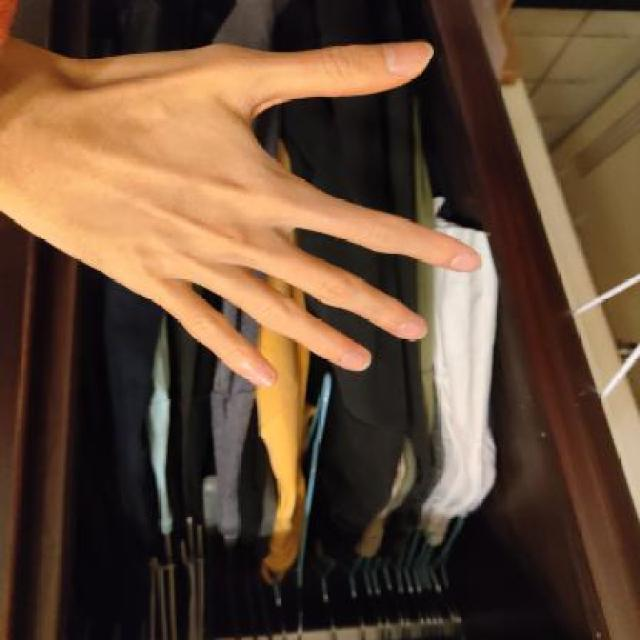bare_hand: (0, 18, 486, 407)
